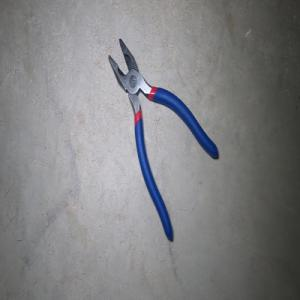Pliers: (108, 38, 218, 241)
